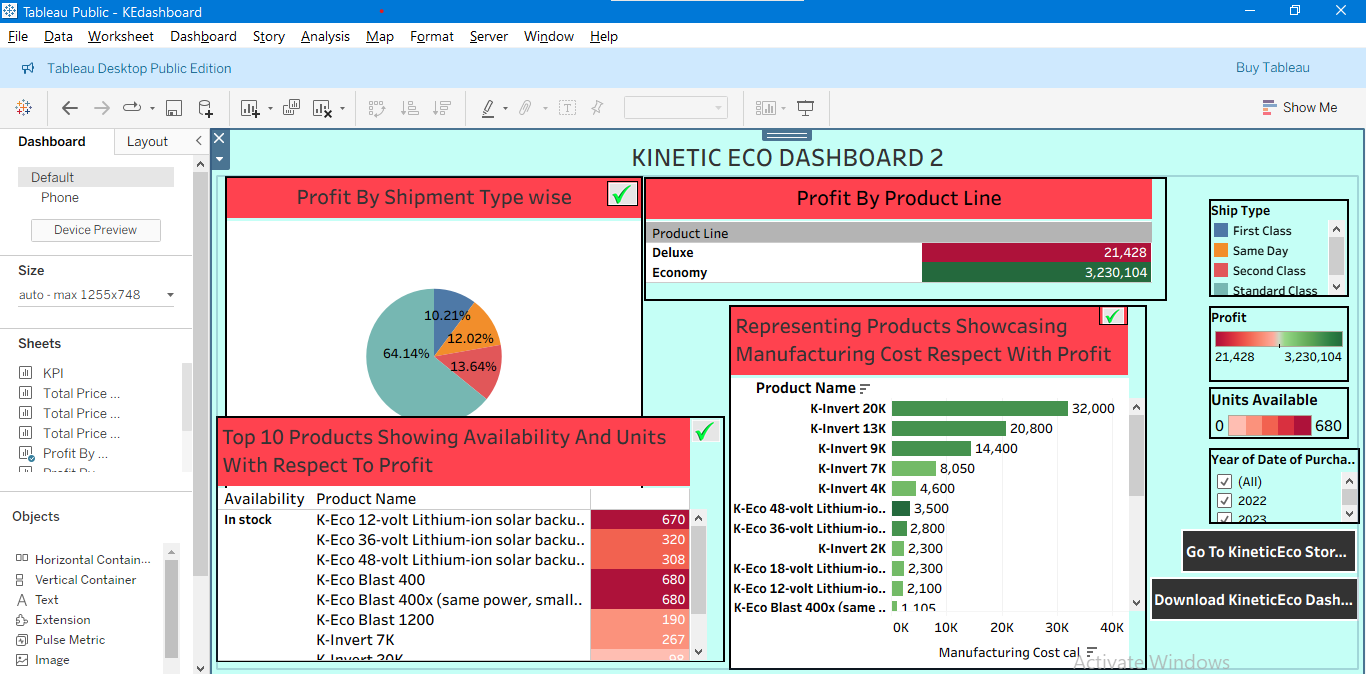

This screenshot's page, from the dashboard's own definition file:
{"tool":"tableau","page":{"name":"Kinetic Eco Dashboard 2","canvas":[1000,1000],"units":"permille","ordinal":1},"visuals":[{"type":"title","box":[6.4,12.3,987.3,63.3]},{"type":"worksheet","title":"Profit By Shipment Type wise","mark":"Pie","box":[8,75.6,361.8,432.1]},{"type":"dashboard-object","box":[341.8,75.6,27.1,44.8]},{"type":"worksheet","title":"Profit By Product Line","mark":"Square","rows":["Product Line"],"box":[375.8,89.4,452.8,226.3]},{"type":"legend","title":"Profit By Shipment Type wise","param":"[federated.01wckk91q8n7ei1h1etdk1ktlx8f].[none:Ship Type:nk]","box":[864.9,129.6,121.2,179]},{"type":"worksheet","title":"Representing Products Showcasing Manufacturing Cost Respect With Profit","mark":"Automatic","rows":["Product Name"],"cols":["Calculation_766174920363499520"],"box":[449.4,322.5,361.8,666.7]},{"type":"legend","title":"Profit By Product Line","param":"[federated.01wckk91q8n7ei1h1etdk1ktlx8f].[sum:Calculation_178455166248472576:qk]","box":[864.9,324.1,121.2,138.9]},{"type":"dashboard-object","box":[769.7,325.6,25.5,35.5]},{"type":"legend","title":"Top 10 Products Showing Availability And Units With Respect To Profit","param":"[federated.01wckk91q8n7ei1h1etdk1ktlx8f].[sum:Units Available:qk]","box":[864.9,472.2,121.2,95.7]},{"type":"worksheet","title":"Top 10 Products Showing Availability And Units With Respect To Profit","mark":"Square","rows":["Availability","Product Name"],"box":[5.6,524.7,440.6,450.6]},{"type":"dashboard-object","box":[405.6,527.8,23.9,37]},{"type":"filter","title":"Representing Products Showcasing Manufacturing Cost Respect With Profit","param":"[federated.01wckk91q8n7ei1h1etdk1ktlx8f].[yr:Date of Purchase:ok]","box":[864.9,583.3,130.7,138.9]},{"type":"dashboard-object","box":[840.6,731.5,152.2,80.2]},{"type":"dashboard-object","box":[813.6,819.4,180.9,80.2]}]}

Visuals, with their boxes on the dashboard's canvas, which has no fixed pixel size, in thousandths of its width and height (x1, y1, x2, y2). These are canvas units, not pixel positions in the 1366x674 screenshot, which may show the page scaled, cropped or inside an application window:
title: (left=6, top=12, right=994, bottom=76)
"Profit By Shipment Type wise" worksheet (Pie marks): (left=8, top=76, right=370, bottom=508)
dashboard-object: (left=342, top=76, right=369, bottom=120)
"Profit By Product Line" worksheet (Square marks): (left=376, top=89, right=829, bottom=316)
"Profit By Shipment Type wise" legend: (left=865, top=130, right=986, bottom=309)
"Representing Products Showcasing Manufacturing Cost Respect With Profit" worksheet: (left=449, top=322, right=811, bottom=989)
"Profit By Product Line" legend: (left=865, top=324, right=986, bottom=463)
dashboard-object: (left=770, top=326, right=795, bottom=361)
"Top 10 Products Showing Availability And Units With Respect To Profit" legend: (left=865, top=472, right=986, bottom=568)
"Top 10 Products Showing Availability And Units With Respect To Profit" worksheet (Square marks): (left=6, top=525, right=446, bottom=975)
dashboard-object: (left=406, top=528, right=430, bottom=565)
"Representing Products Showcasing Manufacturing Cost Respect With Profit" filter: (left=865, top=583, right=996, bottom=722)
dashboard-object: (left=841, top=732, right=993, bottom=812)
dashboard-object: (left=814, top=819, right=994, bottom=900)
